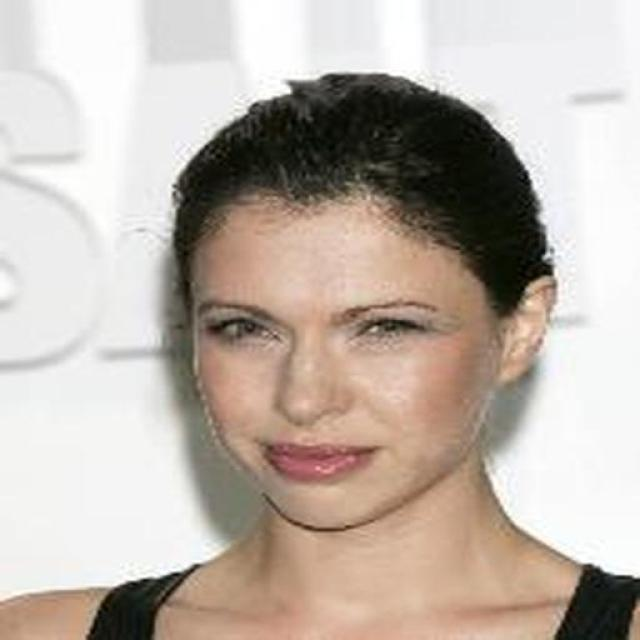bareface: (173, 119, 556, 517)
